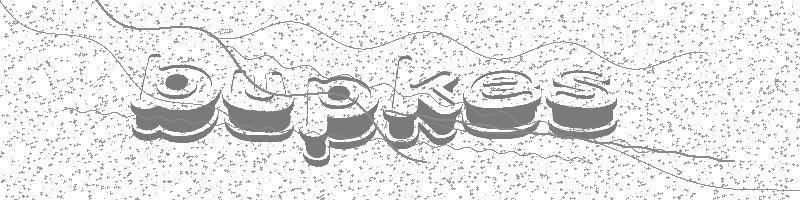b: (124, 39, 221, 142)
e: (461, 68, 548, 144)
k: (385, 51, 465, 156)
p: (298, 69, 378, 177)
s: (544, 63, 623, 142)
u: (218, 64, 294, 145)
